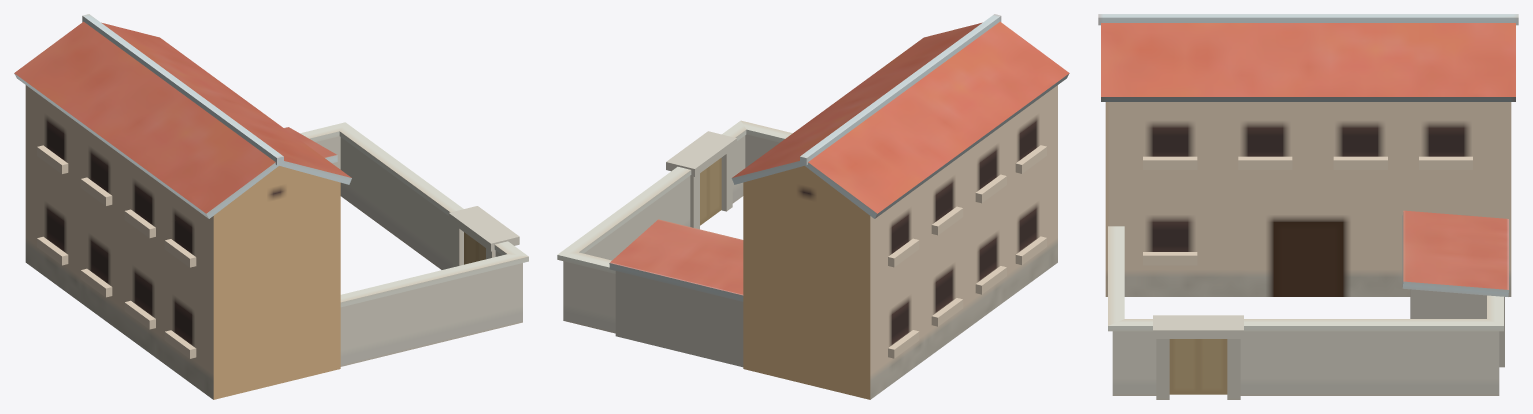
Rendered from Plain_Building_Residential_L2_03_Mod.fbx.
The picture shows the model from 3 angles, left to right: view 1: azimuth 30°, elevation 25°; view 2: azimuth 150°, elevation 25°; view 3: azimuth 270°, elevation 25°; orthographic projection. The views are drawn at different scales.
Visible parts, largest first — view 1: Plain_Building_Residential_L2_03_Mod; view 2: Plain_Building_Residential_L2_03_Mod; view 3: Plain_Building_Residential_L2_03_Mod.
Boxes of the visible parts, left/top/right/bottom form: Plain_Building_Residential_L2_03_Mod: left=14, top=14, right=528, bottom=399; Plain_Building_Residential_L2_03_Mod: left=557, top=14, right=1069, bottom=399; Plain_Building_Residential_L2_03_Mod: left=1098, top=14, right=1518, bottom=399.
Size of the model in its own units: 1189 by 777 by 1188.
